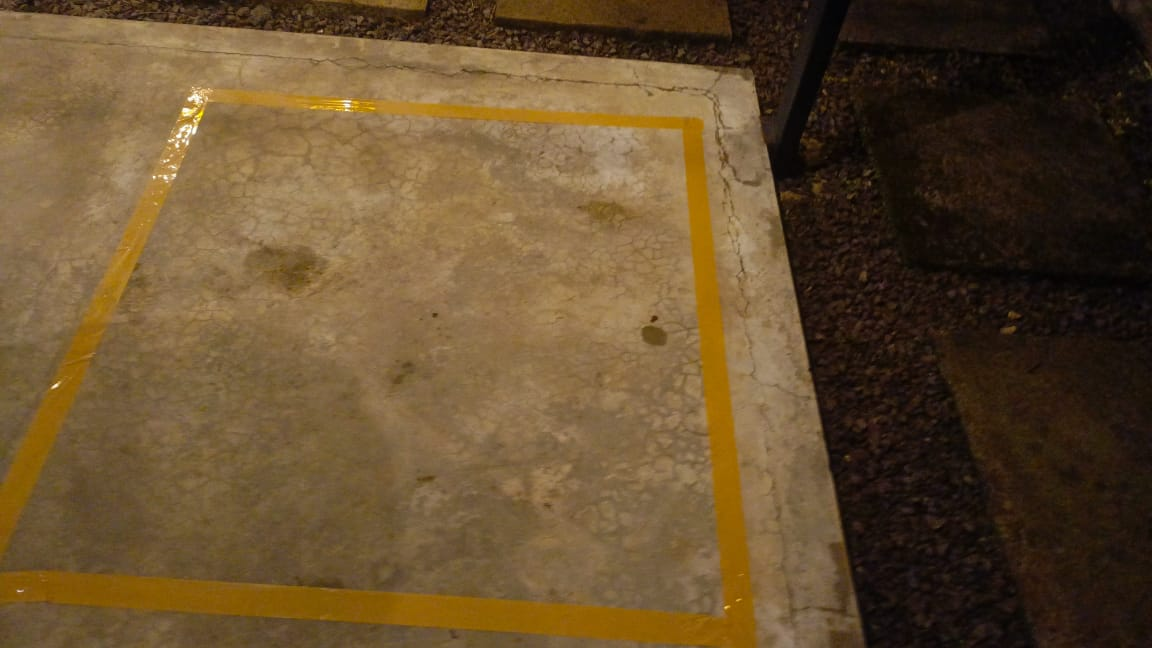floor marking: (0, 88, 756, 647)
